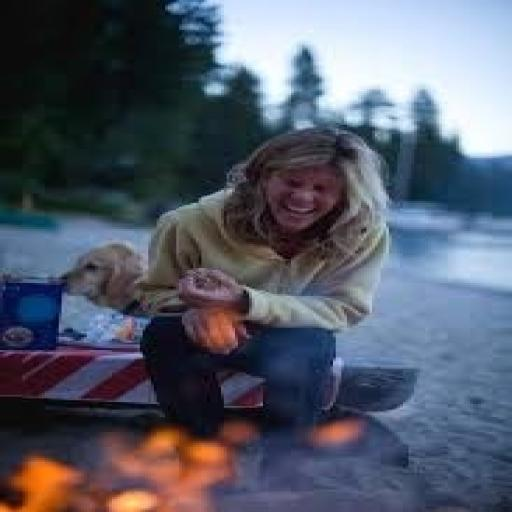laughing: (126, 121, 400, 438)
